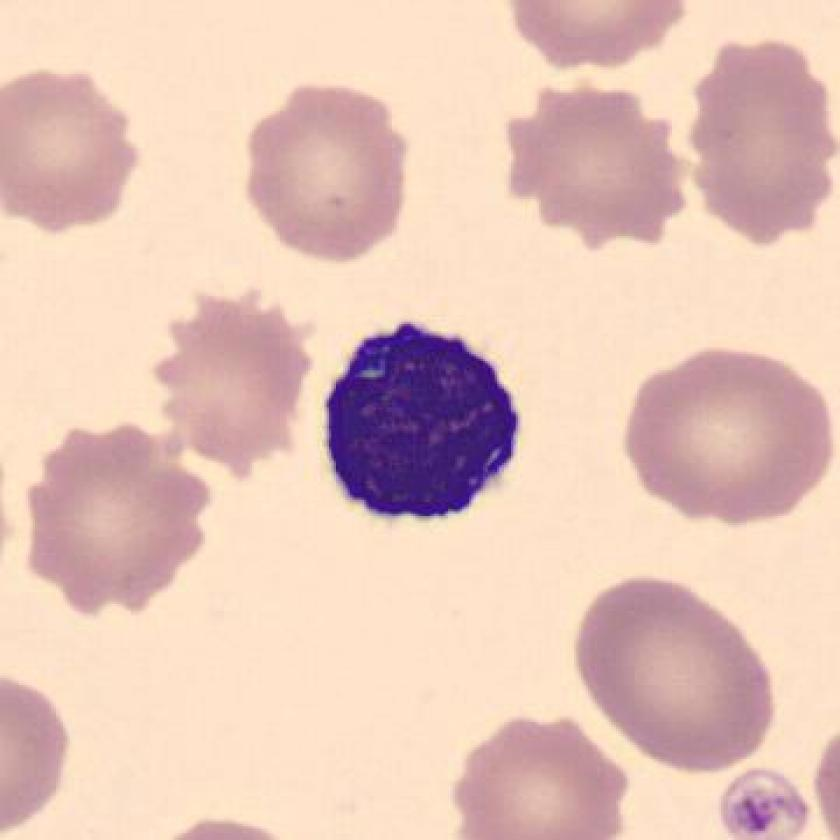lymphocyte: (302, 316, 542, 543)
